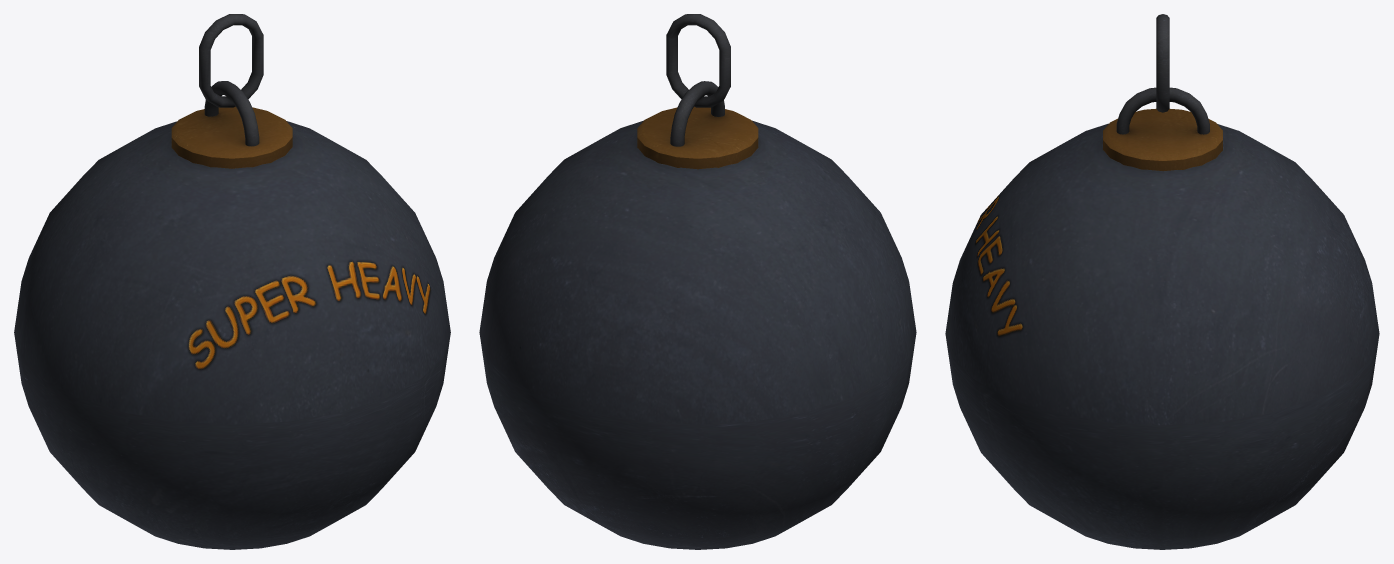
The model's file is WreckingBall.FBX.
3 views of the same model, side by side, from view 1: azimuth 30°, elevation 25°; view 2: azimuth 150°, elevation 25°; view 3: azimuth 270°, elevation 25° (orthographic).
Visible parts, largest first — view 1: Object032; view 2: Object032; view 3: Object032.
Boxes of the visible parts, bbox=[...] form: Object032: bbox=[14, 14, 450, 549]; Object032: bbox=[479, 14, 916, 549]; Object032: bbox=[945, 14, 1379, 549].
Bounding box in the file's own units: 270 × 352 × 270.
